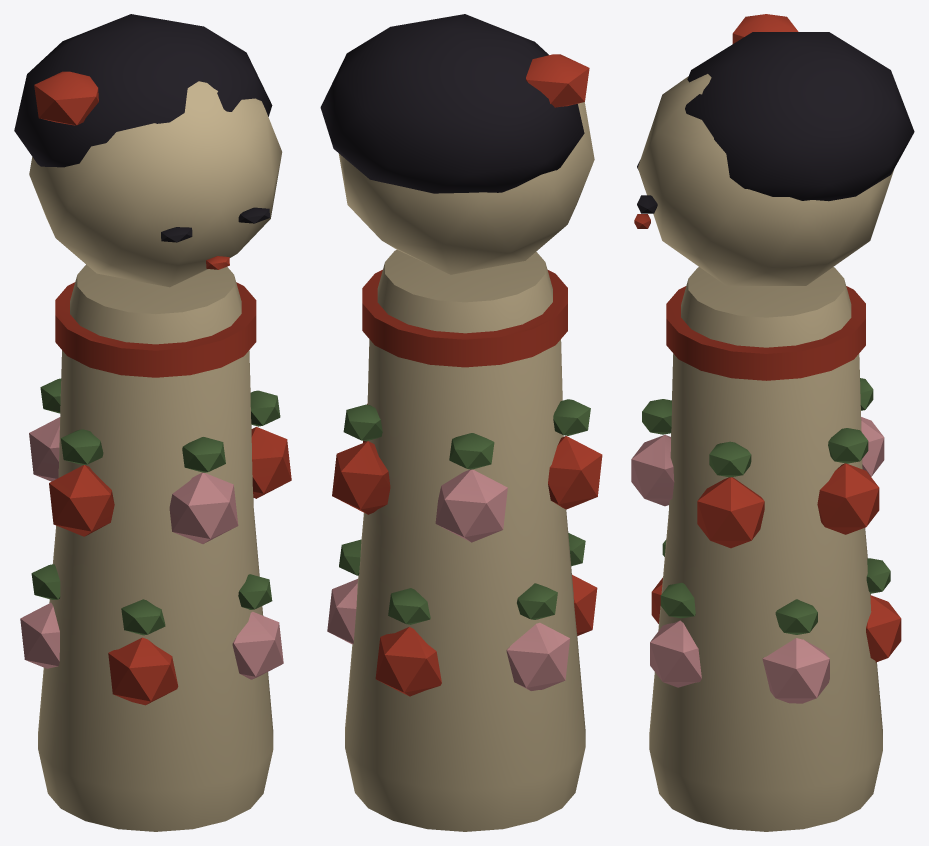
Rendered from lot_kokeshi.glb.
3 renders of one model, left to right at view 1: azimuth 30°, elevation 25°; view 2: azimuth 150°, elevation 25°; view 3: azimuth 270°, elevation 25°, orthographic. The views are drawn at different scales.
Parts seen in each view (by area): view 1: kokeshi; view 2: kokeshi; view 3: kokeshi.
Boxes of the visible parts, bbox=[...] form: kokeshi: bbox=[14, 14, 291, 831]; kokeshi: bbox=[320, 14, 602, 831]; kokeshi: bbox=[631, 14, 914, 831].
Size of the model in its own units: 0.0539 by 0.166 by 0.0573.
